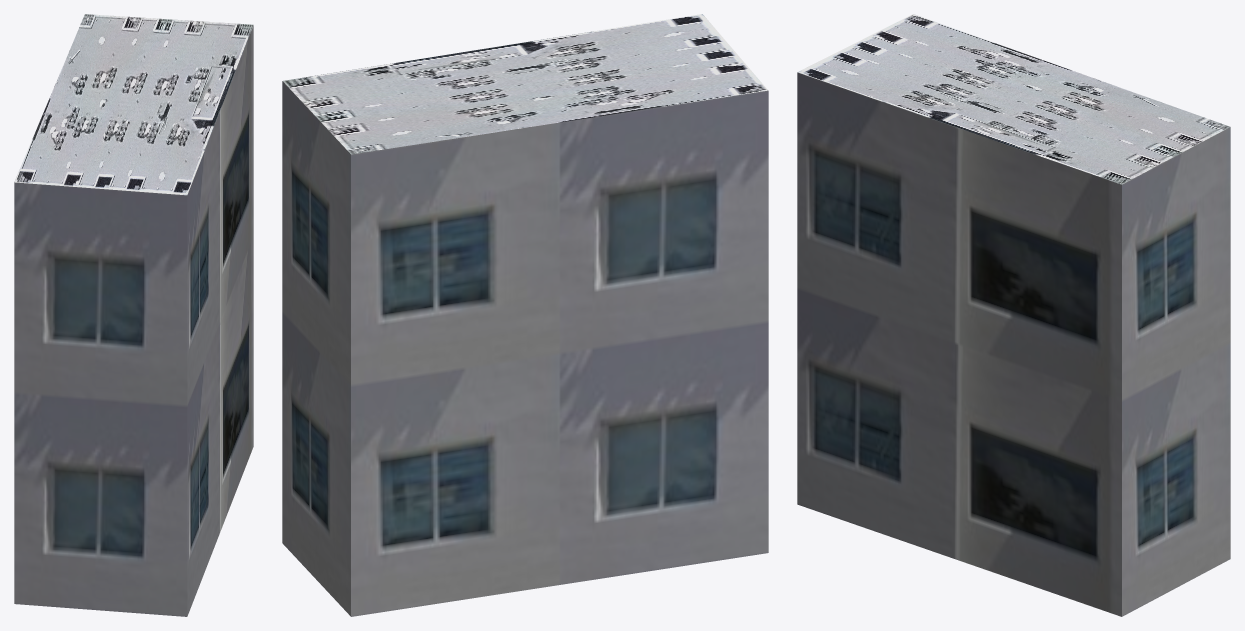
The model's file is ResTex__5053.fbx.
The picture shows the model from 3 angles, left to right: view 1: azimuth 30°, elevation 25°; view 2: azimuth 150°, elevation 25°; view 3: azimuth 270°, elevation 25°; orthographic projection. The views are drawn at different scales.
Visible parts, largest first — view 1: CityEngineMaterial_10_m, CityEngineMaterial_8_m; view 2: CityEngineMaterial_10_m, CityEngineMaterial_8_m; view 3: CityEngineMaterial_10_m, CityEngineMaterial_8_m.
Boxes of the visible parts, box(x1,y1,x2,y2) form: CityEngineMaterial_10_m: box(14, 25, 253, 616); CityEngineMaterial_8_m: box(14, 14, 253, 195); CityEngineMaterial_10_m: box(282, 81, 768, 616); CityEngineMaterial_8_m: box(283, 14, 768, 154); CityEngineMaterial_10_m: box(797, 72, 1230, 616); CityEngineMaterial_8_m: box(797, 14, 1230, 184).
Bounding box in the file's own units: 5.08 × 6 × 5.45.
2 materials, 2 textured.
